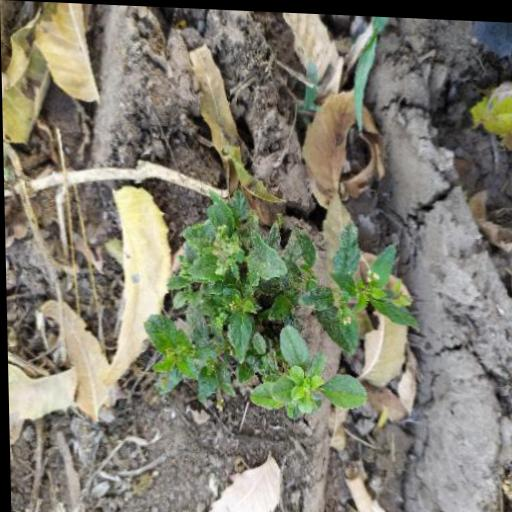weed: (120, 183, 432, 455)
